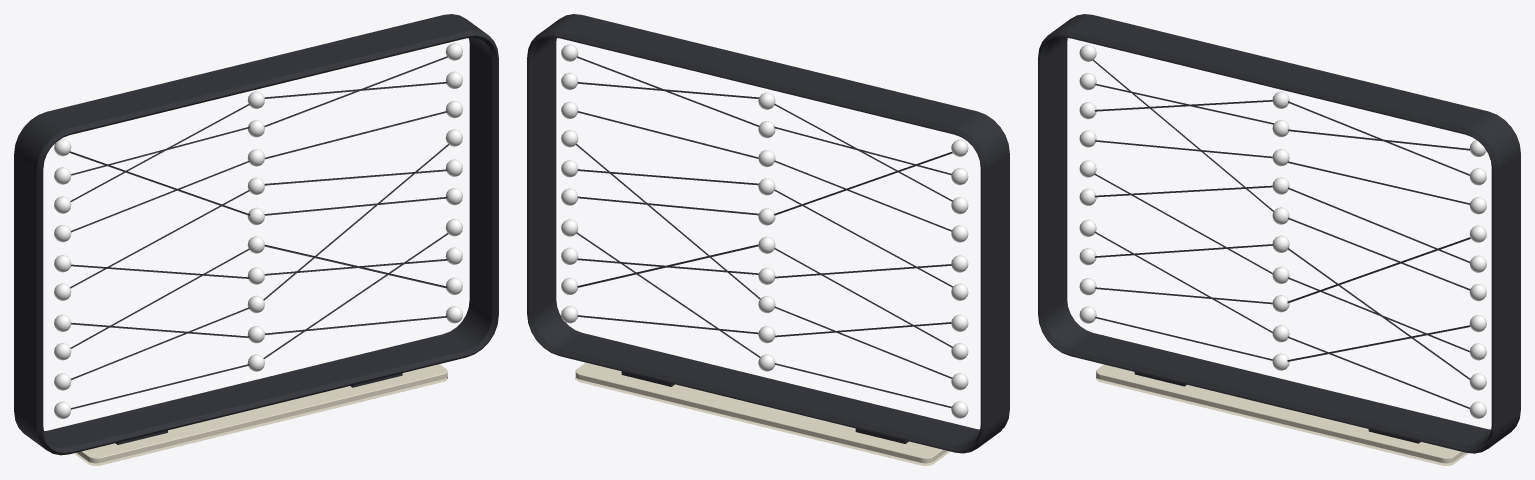
File: neuralNet.gltf
3 renders of one model, left to right at view 1: azimuth 30°, elevation 25°; view 2: azimuth 150°, elevation 25°; view 3: azimuth 330°, elevation 25°, orthographic.
Parts seen in each view (by area): view 1: Plane.010, Cylinder.030, Sphere.002, Cube.030; view 2: Plane.010, Cylinder.030, Cube.030, Sphere.002; view 3: Plane.010, Cylinder.030, Sphere.002, Cube.030.
Boxes of the visible parts, x1,y1,x2,y2 form: Plane.010: [14, 14, 498, 455]; Cylinder.030: [69, 56, 448, 409]; Sphere.002: [54, 43, 462, 418]; Cube.030: [74, 364, 447, 465]; Plane.010: [527, 14, 1009, 453]; Cylinder.030: [576, 56, 953, 408]; Cube.030: [575, 362, 950, 465]; Sphere.002: [561, 44, 968, 418]; Plane.010: [1038, 14, 1520, 453]; Cylinder.030: [1093, 59, 1470, 408]; Sphere.002: [1079, 44, 1486, 418]; Cube.030: [1096, 364, 1468, 465].
Size of the model in its own units: 1.45 by 1.03 by 0.1511.
